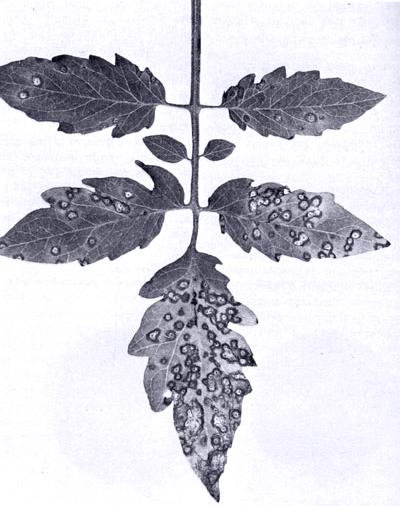Tomato Septoria leaf spot: (129, 251, 262, 501), (5, 163, 185, 279), (224, 46, 394, 147), (4, 42, 170, 142), (203, 178, 392, 263)
